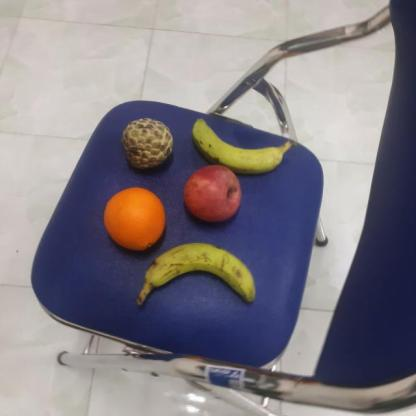annona: (118, 116, 176, 169)
apple: (180, 165, 242, 222)
banana: (145, 239, 257, 306), (188, 114, 281, 175)
orange: (100, 187, 167, 252)
